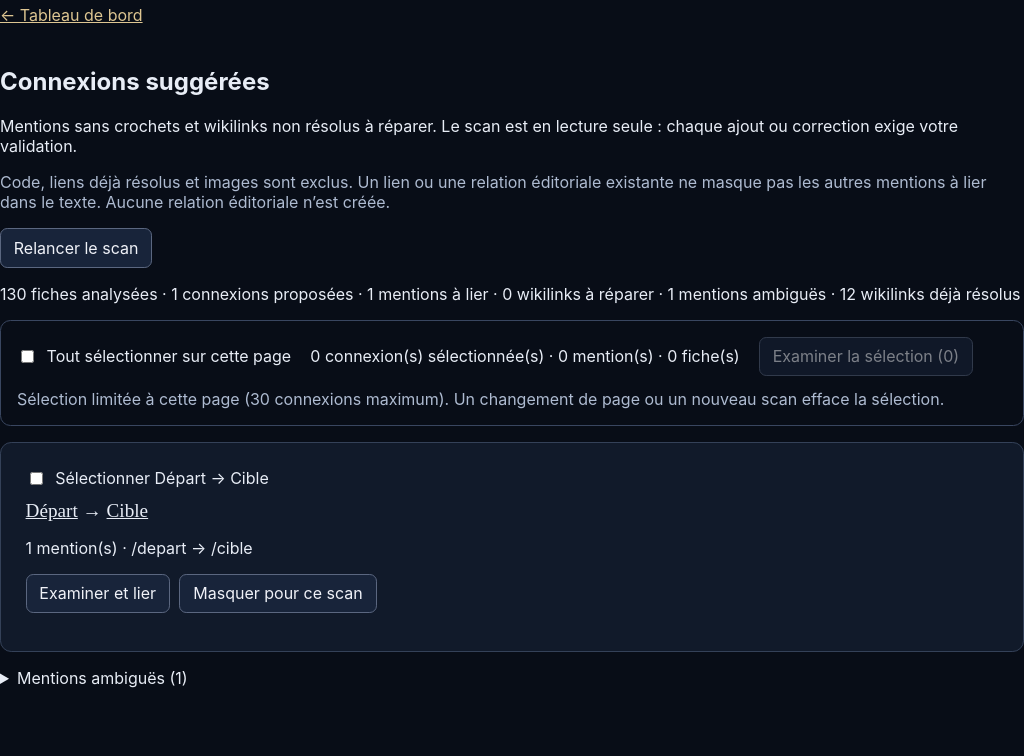
it: scan des connexions › shows the public-content warning and hides suggestions only for the current scan
The image size is (1024, 756).
Check: the text "130 fiches analysées" is shown, box top-left (0, 284), bottom-right (1023, 304)
Click the button "Examiner et lier" at (98, 593), box top-left (26, 574), bottom-right (170, 613)
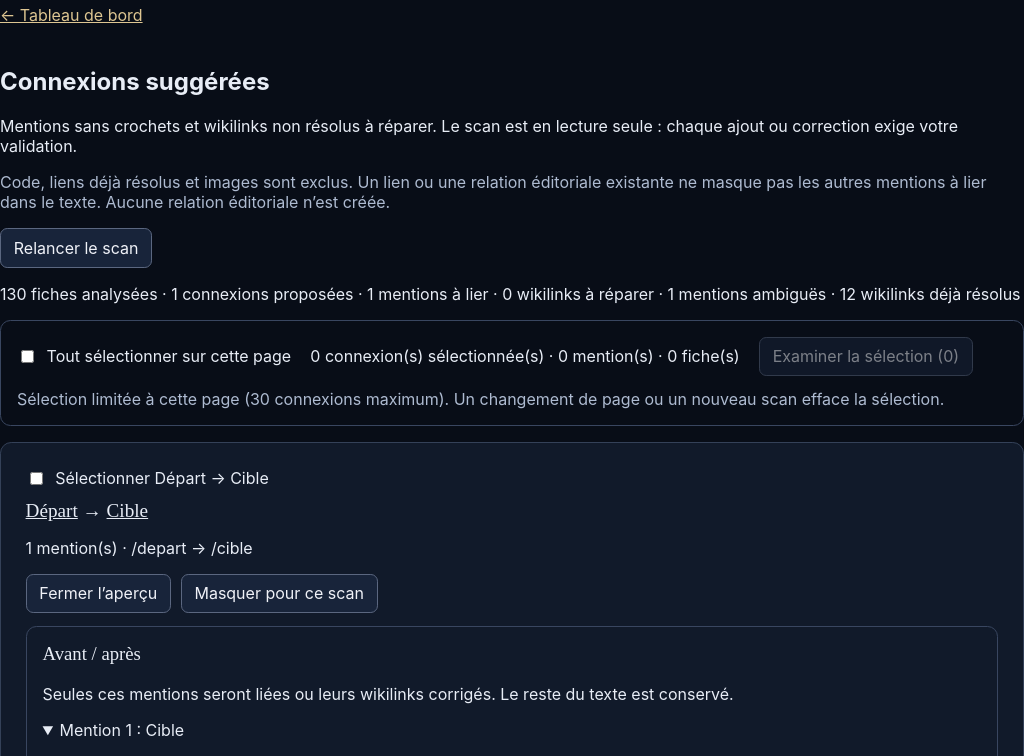
Click the button "Masquer pour ce scan" at (279, 593), box top-left (181, 574), bottom-right (378, 613)
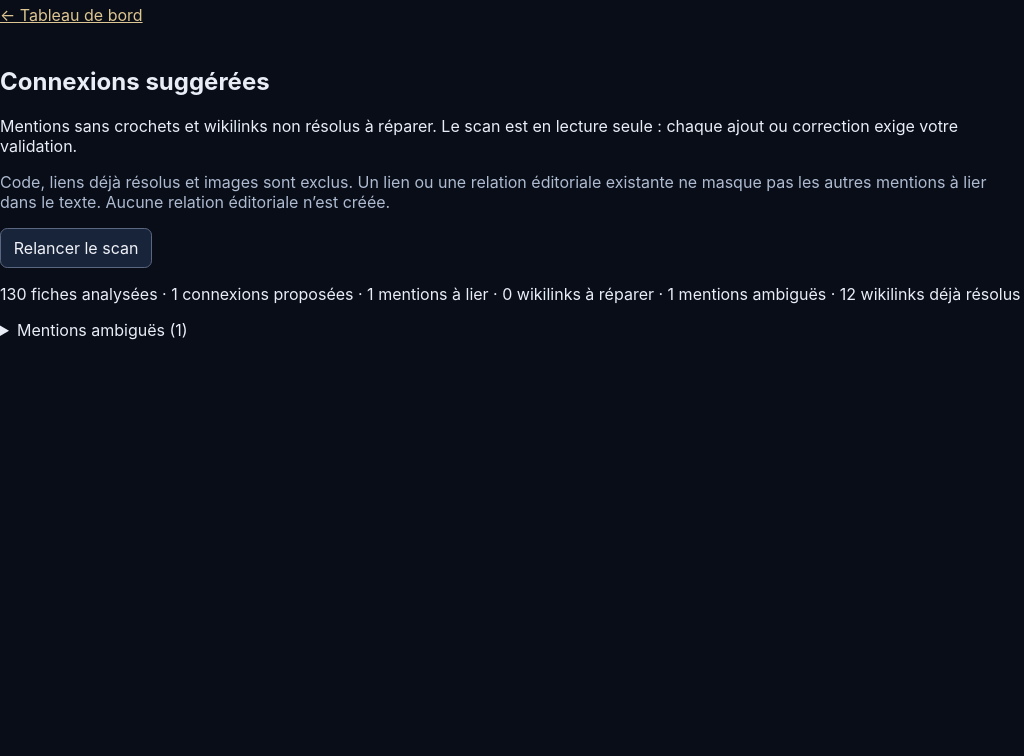
Check: the checkbox is gone
